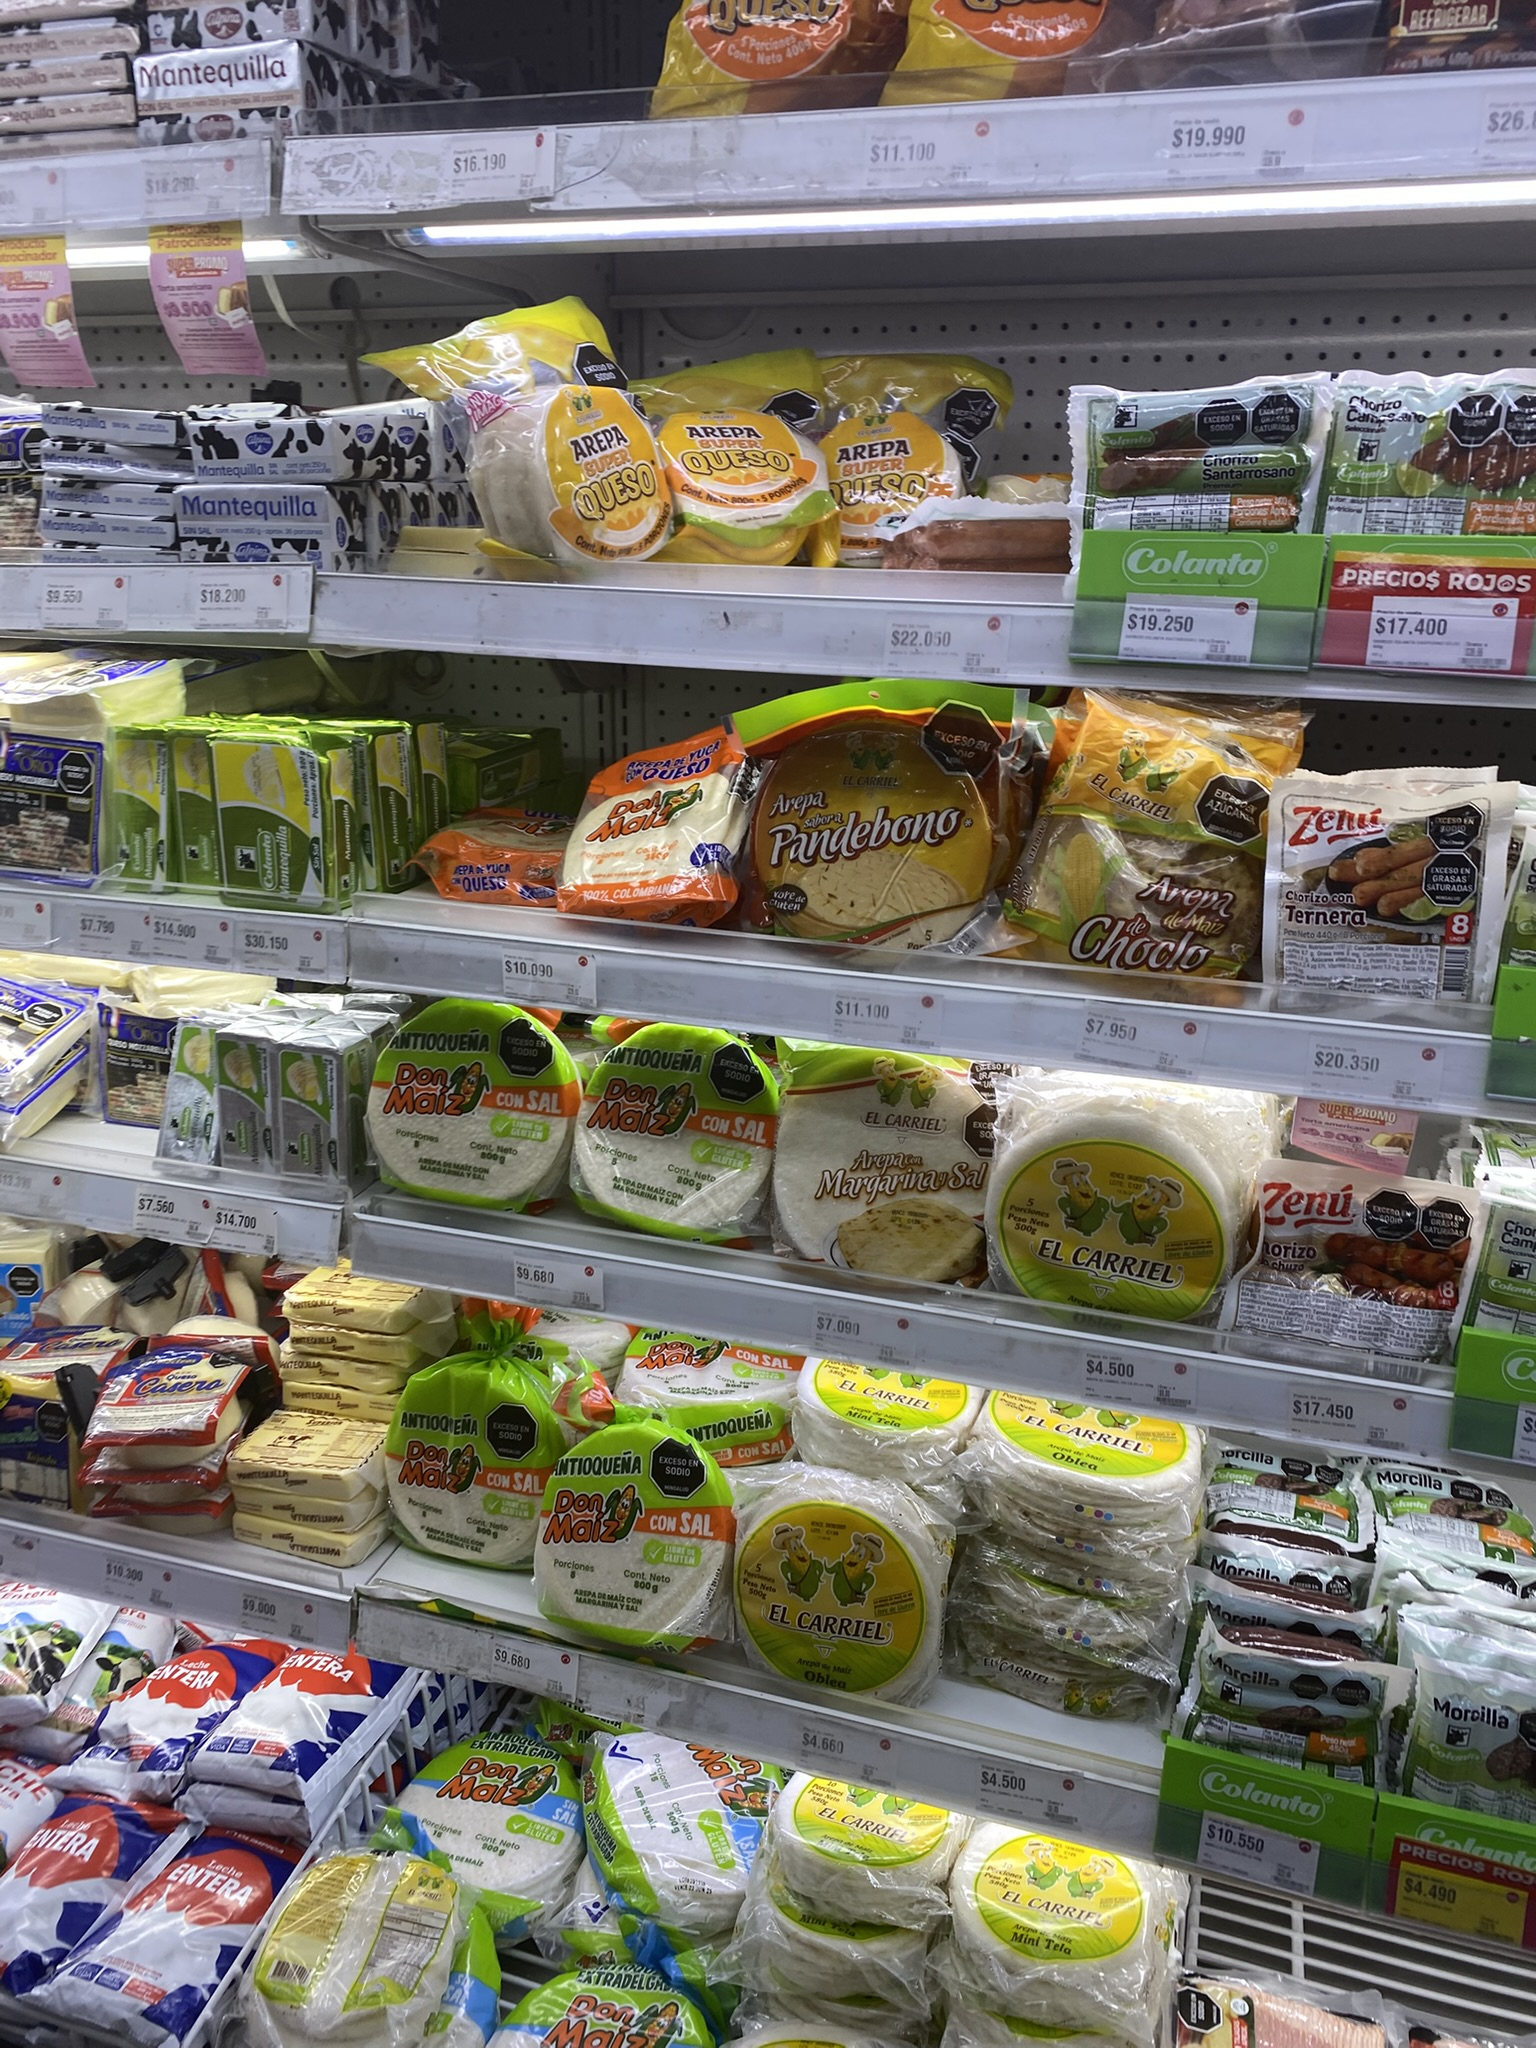Arepa: (981, 1059, 1254, 1355), (731, 1466, 936, 1732), (954, 1801, 1168, 1995), (268, 1850, 463, 2037), (768, 1755, 952, 1916), (986, 1393, 1181, 1545), (805, 1351, 966, 1487)
